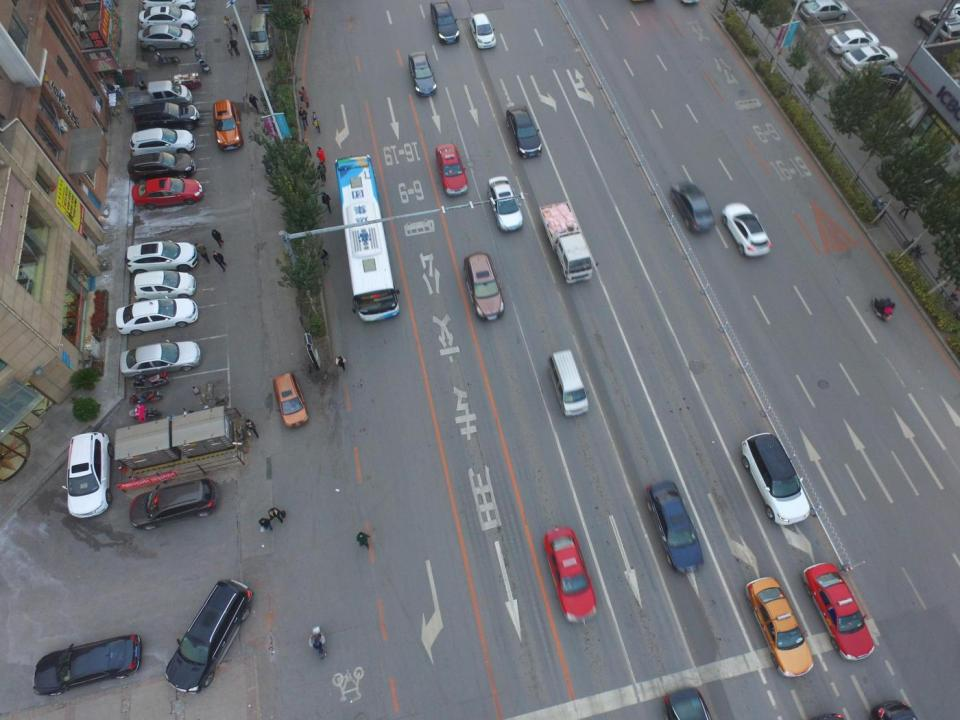bus: (333, 154, 403, 323)
car: (162, 578, 253, 696), (745, 574, 816, 680), (802, 564, 875, 665), (32, 636, 148, 693), (740, 433, 812, 523), (646, 479, 706, 575), (543, 526, 596, 625), (132, 475, 220, 534), (69, 430, 111, 520), (722, 201, 774, 258), (464, 251, 508, 317), (119, 344, 202, 378), (116, 302, 197, 336), (670, 179, 719, 234), (130, 174, 205, 207), (272, 372, 312, 430), (434, 142, 472, 198), (504, 105, 542, 158), (488, 177, 523, 234), (911, 8, 960, 48), (127, 243, 198, 270), (132, 272, 200, 300), (127, 153, 197, 180), (129, 128, 200, 154), (210, 98, 245, 150), (849, 64, 908, 93), (665, 686, 715, 720), (139, 25, 200, 52), (136, 7, 198, 33), (406, 50, 438, 99), (136, 104, 200, 128), (841, 47, 897, 74), (833, 27, 879, 53), (799, 0, 849, 21), (470, 11, 496, 51)
truck: (535, 202, 598, 283)
van: (546, 349, 590, 416), (129, 81, 192, 112), (426, 0, 461, 44), (250, 11, 278, 63)
